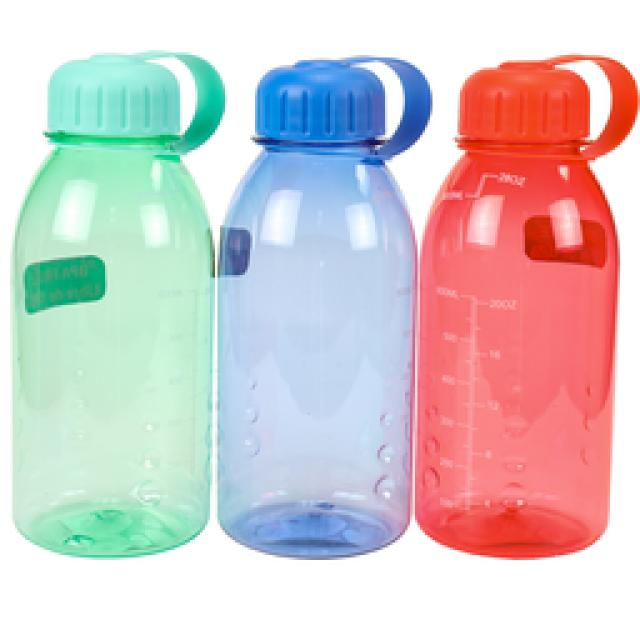plastic_water_bottles: (5, 40, 208, 550), (222, 52, 418, 563), (418, 65, 608, 560)
